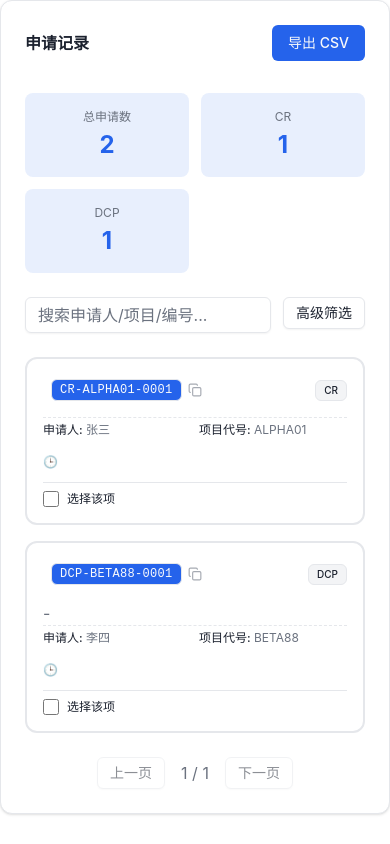
Test: ApplicationList 组件测试 › 管理员应该看到批量删除按钮（选中记录时）
Click the checkbox labelled "选择该项" below "张三" at (51, 499), box [43,491,59,507]
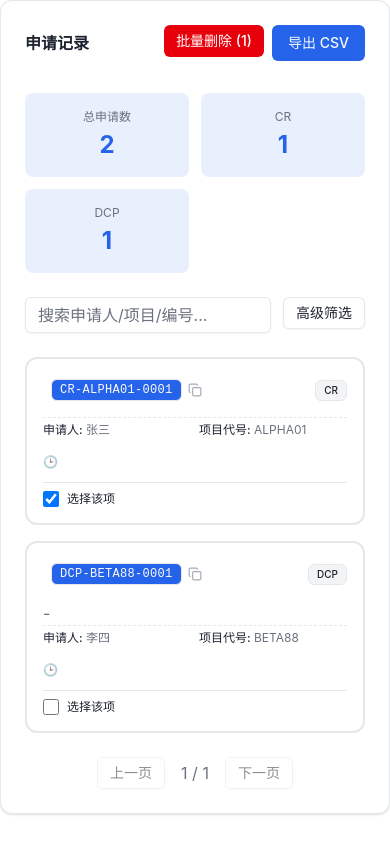
expect the button "批量删除 (1)" is shown: met, box [164,25,264,57]
